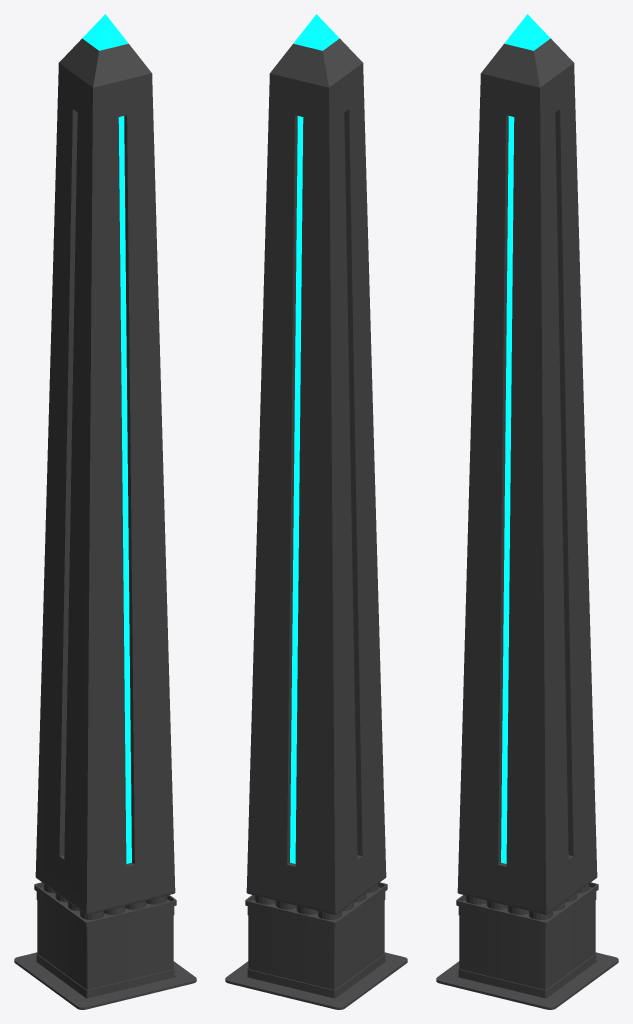
3 renders of one model, left to right at view 1: azimuth 30°, elevation 25°; view 2: azimuth 150°, elevation 25°; view 3: azimuth 330°, elevation 25°, orthographic.
Parts seen in each view (by area): view 1: SM_Obelisk; view 2: SM_Obelisk; view 3: SM_Obelisk.
Boxes of the visible parts, x1,y1,x2,y2 form: SM_Obelisk: (14, 14, 196, 1009); SM_Obelisk: (225, 14, 407, 1009); SM_Obelisk: (436, 14, 618, 1009).
Bounding box in the file's own units: 538 × 4141 × 538.
